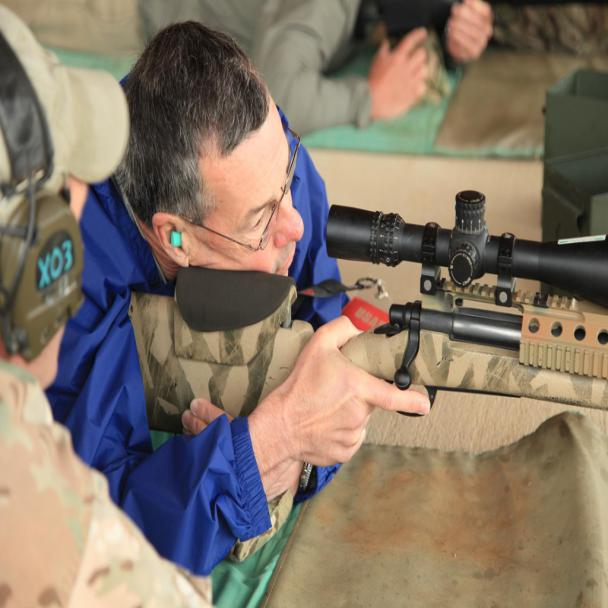Gun: (117, 189, 607, 415)
Hand: (240, 304, 427, 530)
